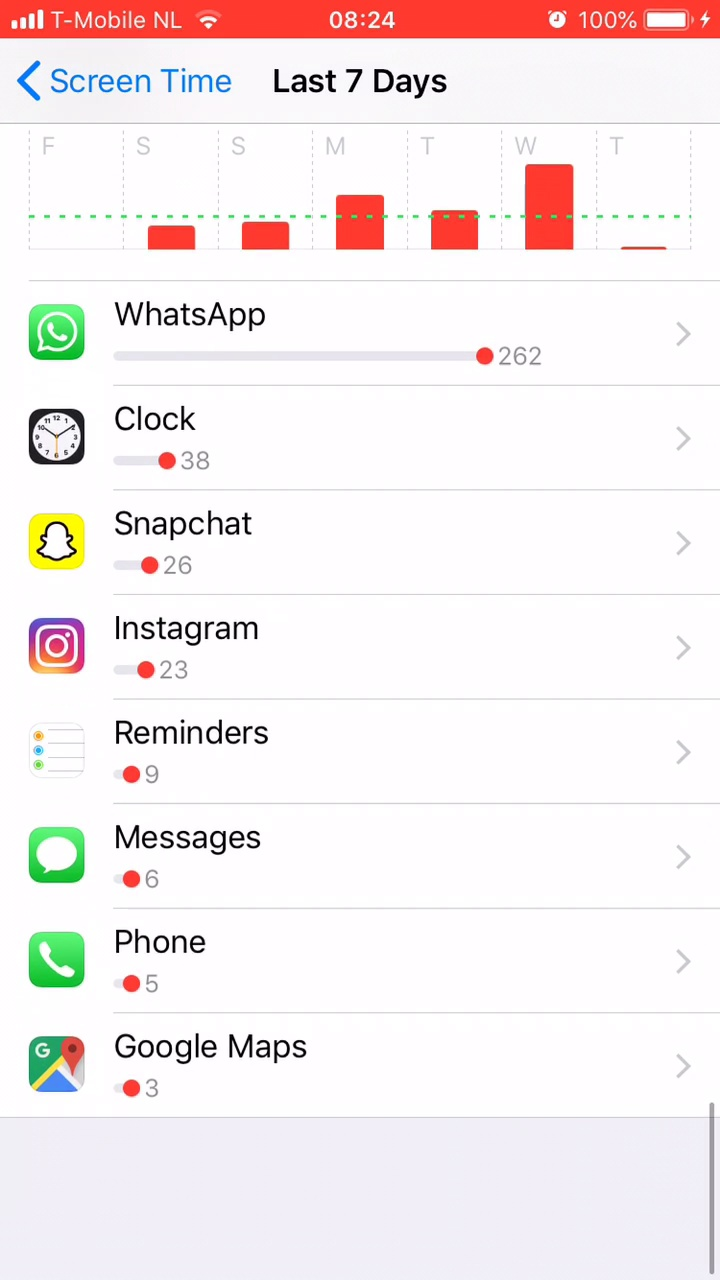not_app: (18, 278, 584, 386), (15, 705, 324, 803), (17, 493, 295, 594), (14, 1022, 340, 1108), (12, 811, 297, 908), (15, 603, 309, 696), (20, 389, 262, 489), (14, 916, 240, 1016)
week: (258, 60, 456, 109)
